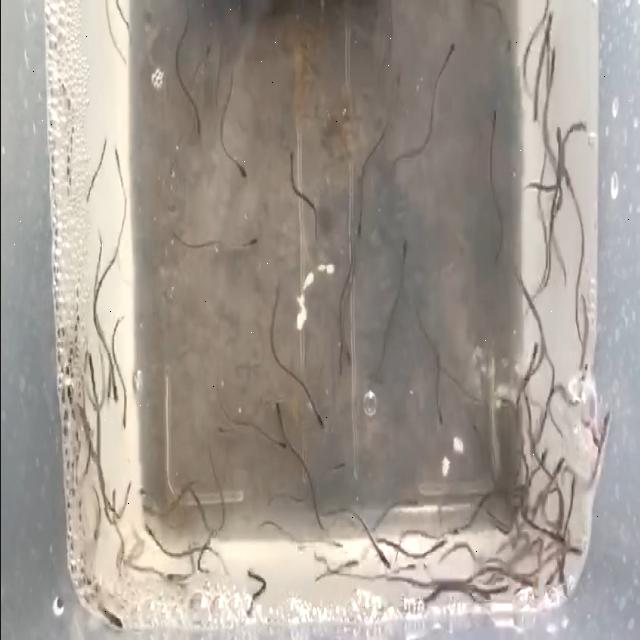inactive_glass_eel: (582, 417, 612, 469), (547, 444, 568, 491), (443, 26, 459, 80), (568, 117, 589, 157), (342, 342, 362, 380), (430, 391, 442, 445), (333, 347, 351, 382), (430, 523, 450, 554), (496, 572, 514, 604), (447, 518, 469, 542), (564, 475, 580, 508), (552, 182, 564, 226), (564, 533, 582, 562), (116, 396, 128, 439), (549, 122, 564, 156), (555, 482, 567, 524), (544, 36, 558, 72), (234, 150, 250, 180), (541, 20, 557, 46), (192, 114, 206, 141), (528, 333, 538, 370), (333, 449, 347, 475), (316, 404, 328, 434), (534, 448, 546, 478), (136, 480, 148, 508), (109, 492, 122, 517), (345, 552, 357, 578), (276, 434, 288, 458), (401, 238, 411, 266), (109, 380, 121, 402), (248, 232, 258, 258), (273, 402, 286, 422), (212, 424, 229, 437), (552, 523, 562, 544), (202, 42, 210, 66), (110, 617, 122, 632), (146, 524, 154, 544)
